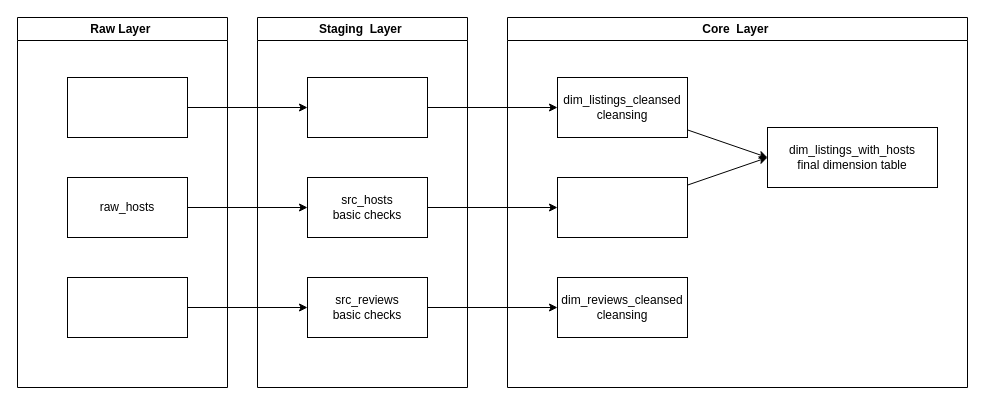
The diagram is 985 pixels wide and 405 high, and some of its shapes have lost their labels. Here are the shapes that lost their labels. From the top down, the centre of each, then its label:
At point 127,107: "raw_listings".
At point 367,107: "src_listings basic checks".
At point 622,207: "dim_hosts_cleansed cleansing".
At point 127,307: "raw_reviews".
